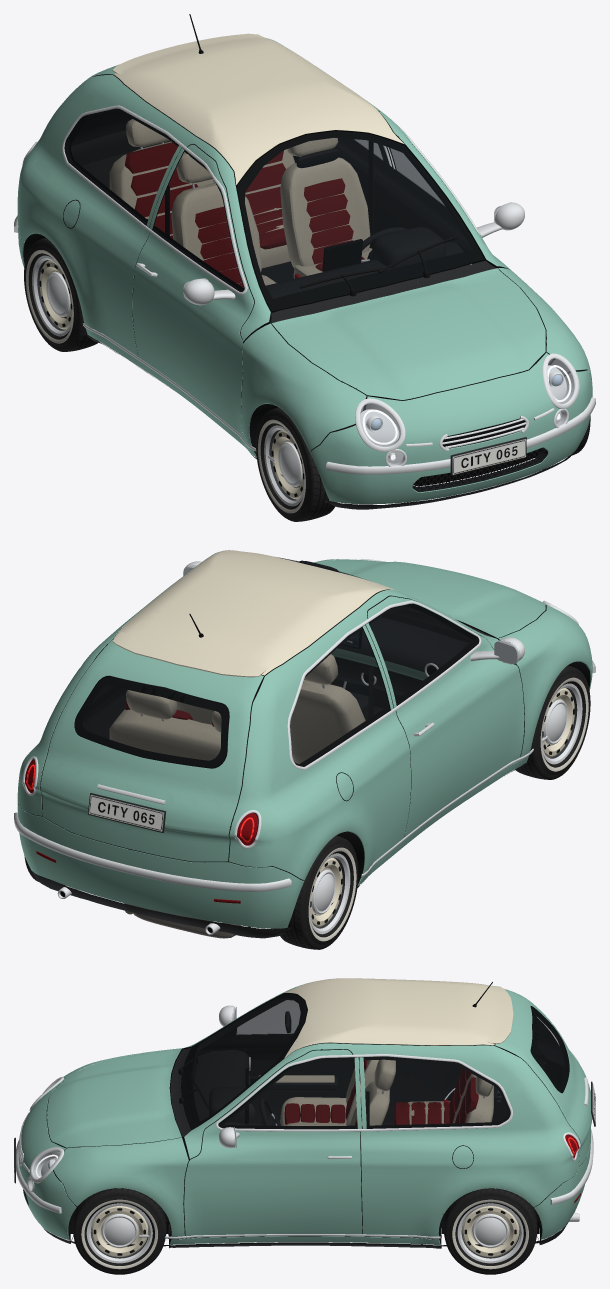
The model's file is retro-city-car.glb.
3 renders of one model, top to bottom at view 1: azimuth 30°, elevation 25°; view 2: azimuth 150°, elevation 25°; view 3: azimuth 270°, elevation 25°, orthographic. The views are drawn at different scales.
Visible parts, largest first — view 1: Body, Wheel_FR, Wheel_RR; view 2: Body, Wheel_RR, Wheel_FR; view 3: Body, Wheel_RL, Wheel_FL.
Part boxes in pixels (bbox=[...]): Body: bbox=[14, 14, 595, 509]; Wheel_FR: bbox=[256, 407, 337, 521]; Wheel_RR: bbox=[24, 237, 98, 351]; Body: bbox=[14, 550, 595, 938]; Wheel_RR: bbox=[280, 835, 358, 949]; Wheel_FR: bbox=[515, 665, 590, 779]; Body: bbox=[14, 978, 595, 1248]; Wheel_RL: bbox=[443, 1188, 537, 1274]; Wheel_FL: bbox=[73, 1188, 166, 1274].
Size of the model in its own units: 1.93 by 1.64 by 3.59.
55 materials, 10 textured.
